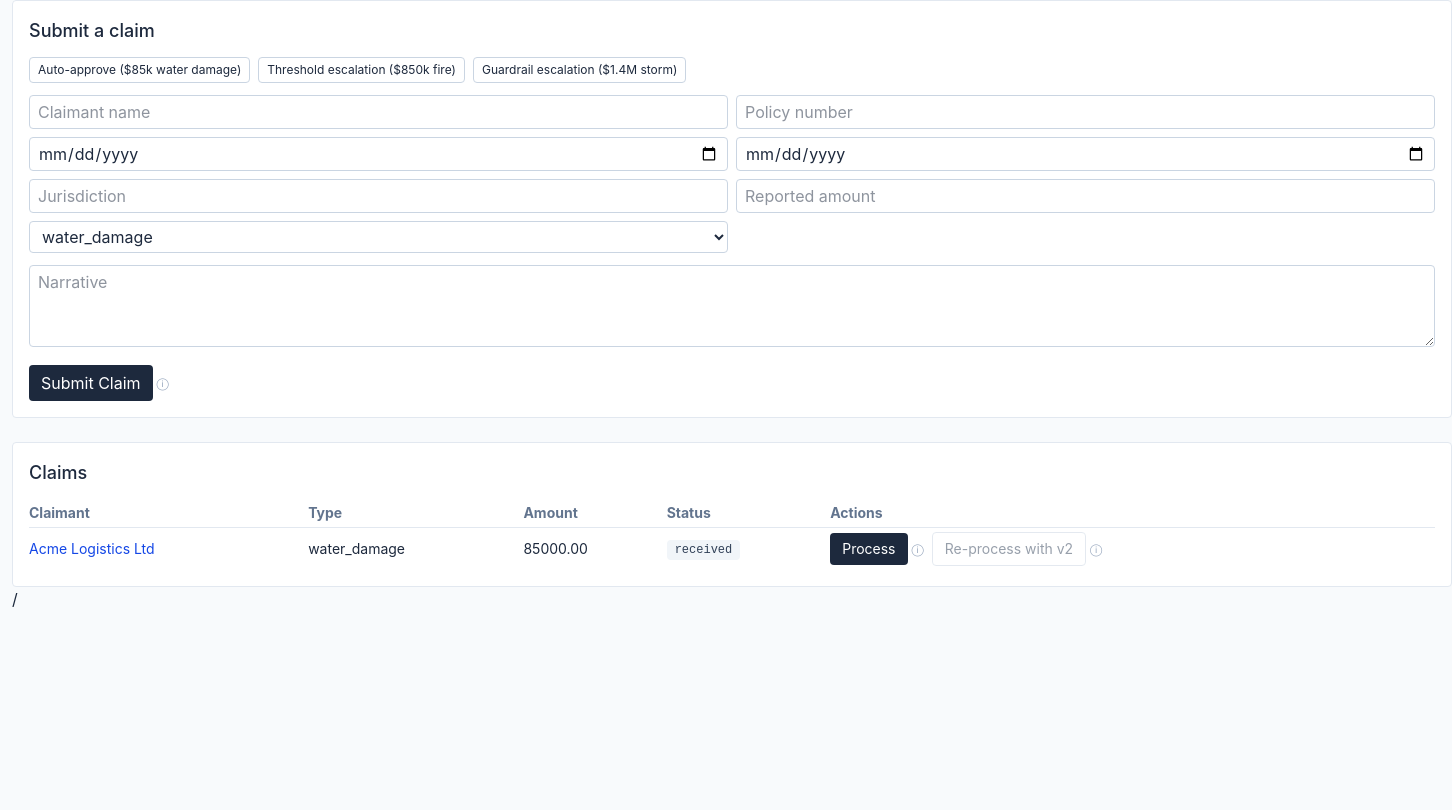
it: ClaimsPage › navigates to the run page immediately on Process
Expected: the link "Acme Logistics Ltd" is shown, [29,540,155,557]
Click the button "Process".
click(869, 549)  # box [830,533,908,565]
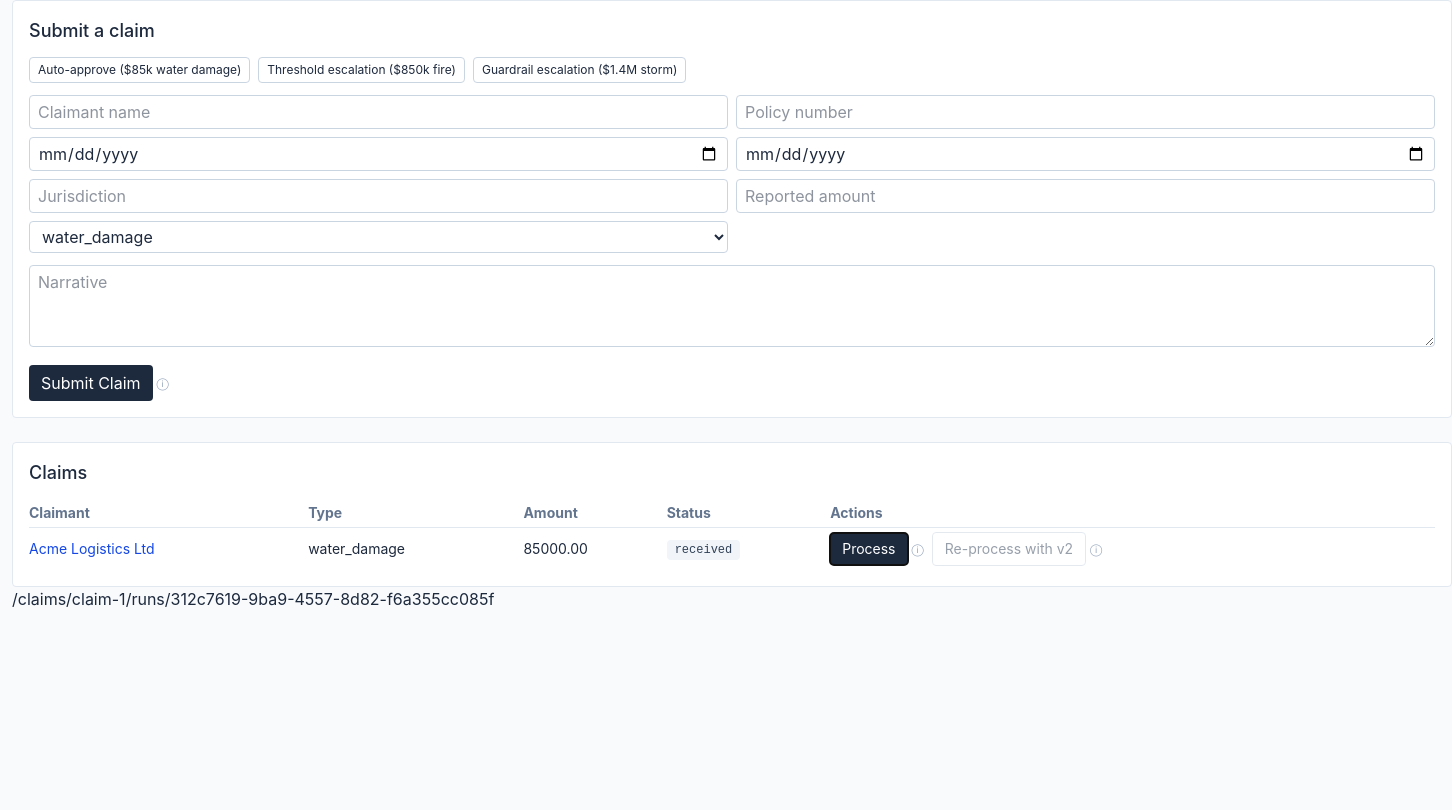
Expected: the text with test id "location" shows "/claims/claim-1/runs/", [12,589,494,609]
